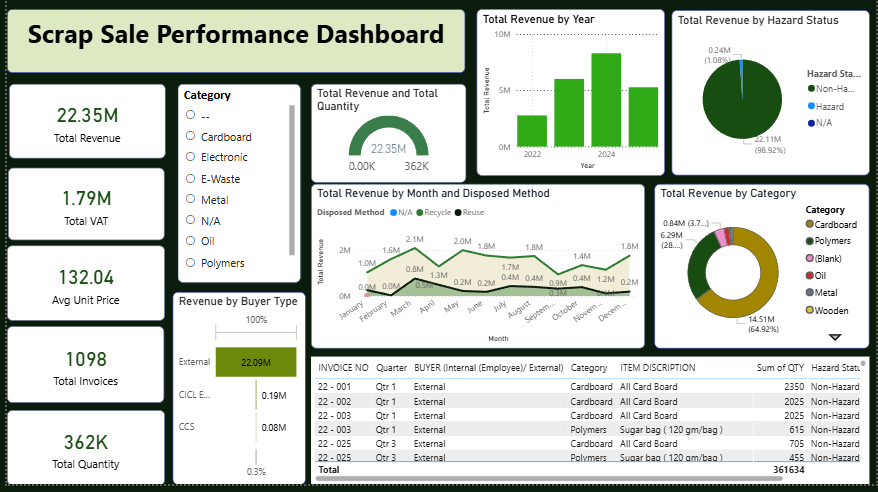

This screenshot's page, from the dashboard's own definition file:
{"tool":"powerbi","page":{"name":"Sales Overview","canvas":[1280,720],"ordinal":0},"visuals":[{"type":"textbox","box":[0,19.3,675.6,93.8],"z":0},{"type":"card","fields":{"Values":["Item_Codes.Total Revenue"]},"box":[3,129.5,230.7,110.1],"z":1000},{"type":"card","fields":{"Values":["Item_Codes.Total Invoices"]},"box":[0,486.6,232.1,113.1],"z":2000},{"type":"card","fields":{"Values":["Item_Codes.Total Quantity"]},"box":[0,609.7,232.3,111],"z":3000},{"type":"card","fields":{"Values":["Item_Codes.Total VAT"]},"box":[1.5,253,230.7,107.1],"z":4000},{"type":"card","fields":{"Values":["Item_Codes.Avg Unit Price"]},"box":[0,367.2,232.3,111],"z":5000},{"type":"gauge","fields":{"Y":["Item_Codes.Total Revenue"],"MaxValue":["Item_Codes.Total Quantity"]},"box":[447.4,129.8,228.8,145.2],"z":6000},{"type":"listSlicer","fields":{"Values":["Scrap_Scale.Category"]},"box":[251.5,129.5,181.6,293.2],"z":7000},{"type":"areaChart","fields":{"Category":["Scrap_Scale.INVOICE DATE.Variation.Date Hierarchy.Month"],"Y":["Item_Codes.Total Revenue"],"Series":["Scrap_Scale.Disposed Method"]},"box":[447.9,276.8,492.6,242.6],"z":8000},{"type":"donutChart","fields":{"Category":["Scrap_Scale.Category"],"Y":["Item_Codes.Total Revenue"]},"box":[953.9,276.8,317,242.6],"z":9000},{"type":"pieChart","fields":{"Category":["Item_Codes.Hazard Status"],"Y":["Item_Codes.Total Revenue"]},"box":[979.2,20.8,291.7,244.1],"z":9002},{"type":"funnel","title":"Revenue by Buyer Type","fields":{"Category":["Scrap_Scale.BUYER (Internal (Employee)/ External)"],"Y":["Item_Codes.Total Revenue"]},"box":[244.1,436,196.4,284.2],"z":9003},{"type":"clusteredColumnChart","fields":{"Category":["Scrap_Scale.INVOICE DATE.Variation.Date Hierarchy.Year"],"Y":["Item_Codes.Total Revenue"]},"box":[692,19.3,276.8,245.5],"z":9004},{"type":"tableEx","fields":{"Values":["Scrap_Scale.INVOICE NO","Scrap_Scale.INVOICE DATE.Variation.Date Hierarchy.Quarter","Scrap_Scale.BUYER (Internal (Employee)/ External)","Scrap_Scale.Category","Scrap_Scale.ITEM DISCRIPTION","Sum(Scrap_Scale.QTY)","Scrap_Scale.Hazard Status","Scrap_Scale.Disposed Method"]},"box":[447.9,531.3,822.9,189],"z":9005}]}

Visuals, with their boxes in screenshot pixels (x1, y1, x2, y2), scaled from the page's 1280x720 canvas onto the 878x492 screenshot:
textbox: 0 13 463 77
card - Item_Codes.Total Revenue: 2 88 160 164
card - Item_Codes.Total Invoices: 0 333 159 410
card - Item_Codes.Total Quantity: 0 417 159 491
card - Item_Codes.Total VAT: 1 173 159 246
card - Item_Codes.Avg Unit Price: 0 251 159 327
gauge - Item_Codes.Total Revenue x Item_Codes.Total Quantity: 307 89 464 188
listSlicer - Scrap_Scale.Category: 173 88 297 289
areaChart - Scrap_Scale.INVOICE DATE.Variation.Date Hierarchy.Month x Item_Codes.Total Revenue: 307 189 645 355
donutChart - Scrap_Scale.Category x Item_Codes.Total Revenue: 654 189 872 355
pieChart - Item_Codes.Hazard Status x Item_Codes.Total Revenue: 672 14 872 181
"Revenue by Buyer Type" funnel: 167 298 302 491
clusteredColumnChart - Scrap_Scale.INVOICE DATE.Variation.Date Hierarchy.Year x Item_Codes.Total Revenue: 475 13 665 181
tableEx - Scrap_Scale.INVOICE NO x Scrap_Scale.INVOICE DATE.Variation.Date Hierarchy.Quarter: 307 363 872 491
